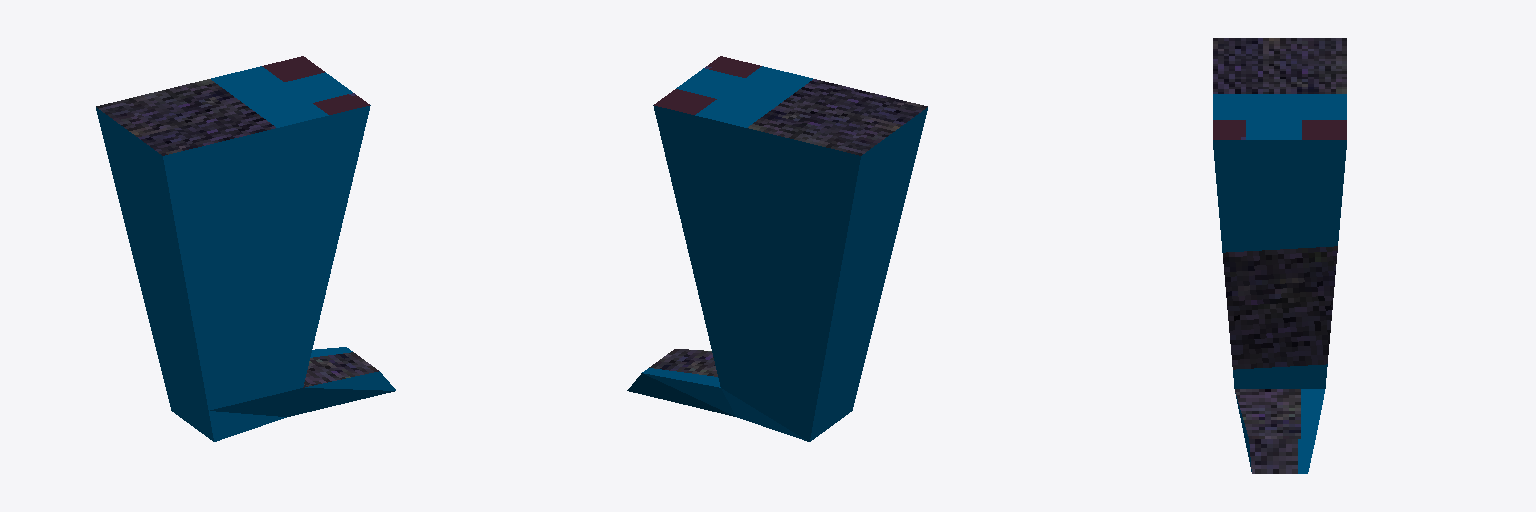
The picture shows the model from 3 angles: view 1: azimuth 30°, elevation 25°; view 2: azimuth 150°, elevation 25°; view 3: azimuth 270°, elevation 25°; orthographic projection.
Parts seen in each view (by area): view 1: leg_bottom; view 2: leg_bottom; view 3: leg_bottom.
Part boxes in pixels (x1,y1,x2,y2): leg_bottom: (96, 56, 395, 441); leg_bottom: (627, 56, 927, 441); leg_bottom: (1213, 38, 1346, 473).
Bounding box in the file's own units: 0.3736 × 0.4381 × 0.1719.
Materials: 1 (1 with a texture image).